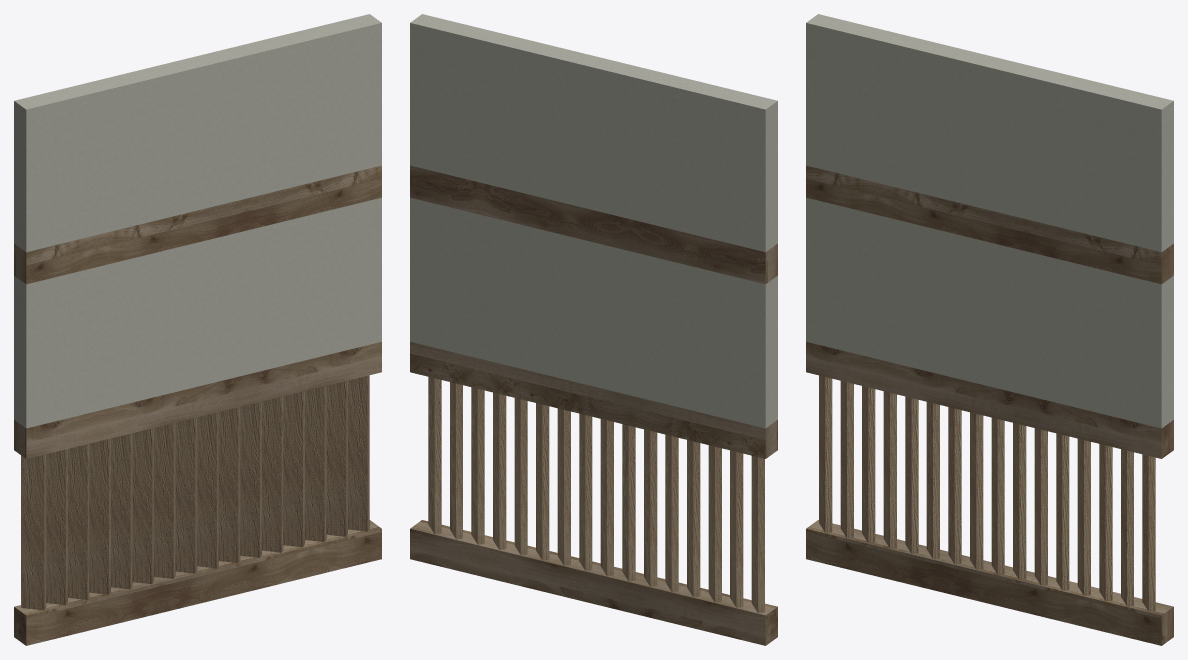
File: SM_Sun_Toilet_Wall_B.fbx
3 renders of one model, left to right at view 1: azimuth 30°, elevation 25°; view 2: azimuth 150°, elevation 25°; view 3: azimuth 330°, elevation 25°, orthographic.
Parts seen in each view (by area): view 1: SM_Sun_Toilet_Wall_B; view 2: SM_Sun_Toilet_Wall_B; view 3: SM_Sun_Toilet_Wall_B.
Part boxes in pixels (bbox=[...]): SM_Sun_Toilet_Wall_B: bbox=[14, 14, 381, 645]; SM_Sun_Toilet_Wall_B: bbox=[410, 14, 777, 645]; SM_Sun_Toilet_Wall_B: bbox=[806, 14, 1173, 645].
Size of the model in its own units: 170 by 245 by 10.
